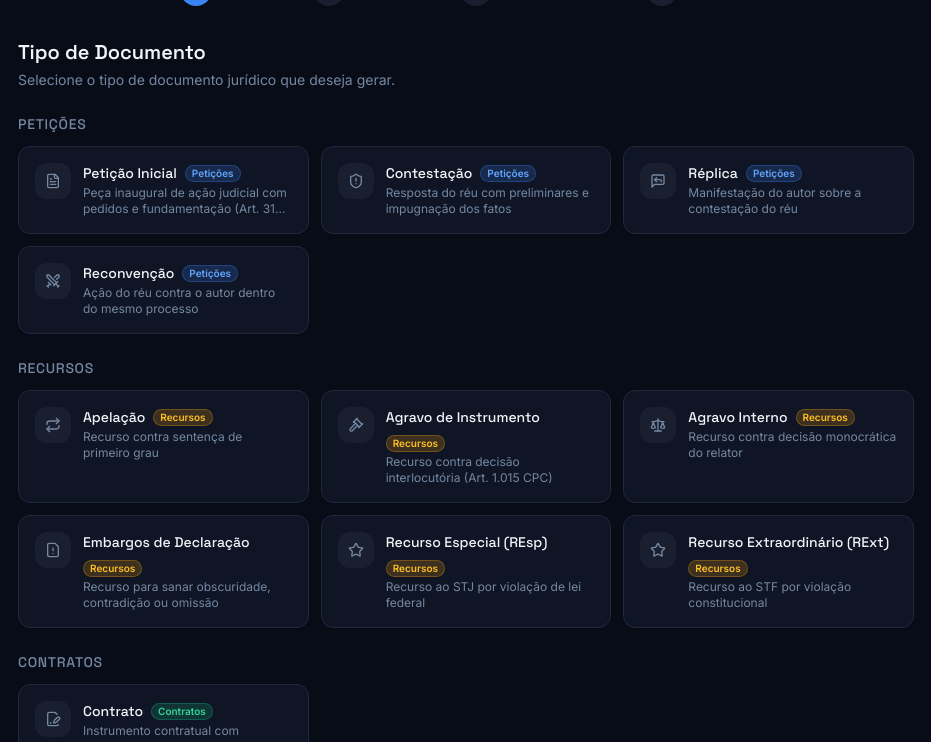
DocumentWizard › goes back to step 1 when clicking back on step 2
Click the heading "Petição Inicial" at (130,173), box [83,163,177,183]
(page scrolled)
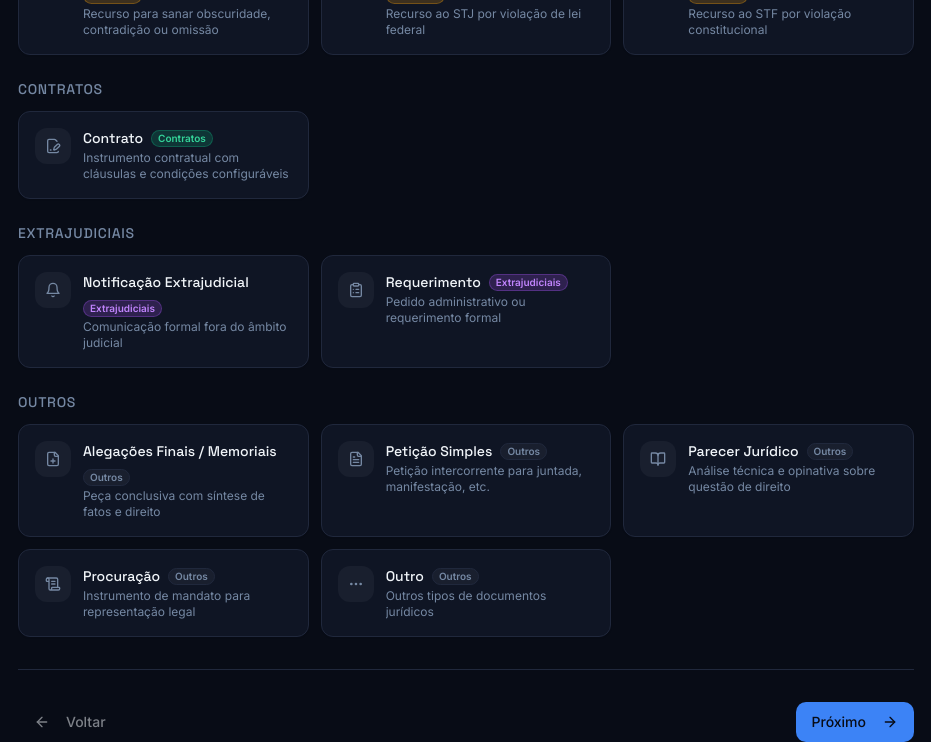
Click the button "Próximo" at (855,722), box [796,702,914,741]
(page scrolled)
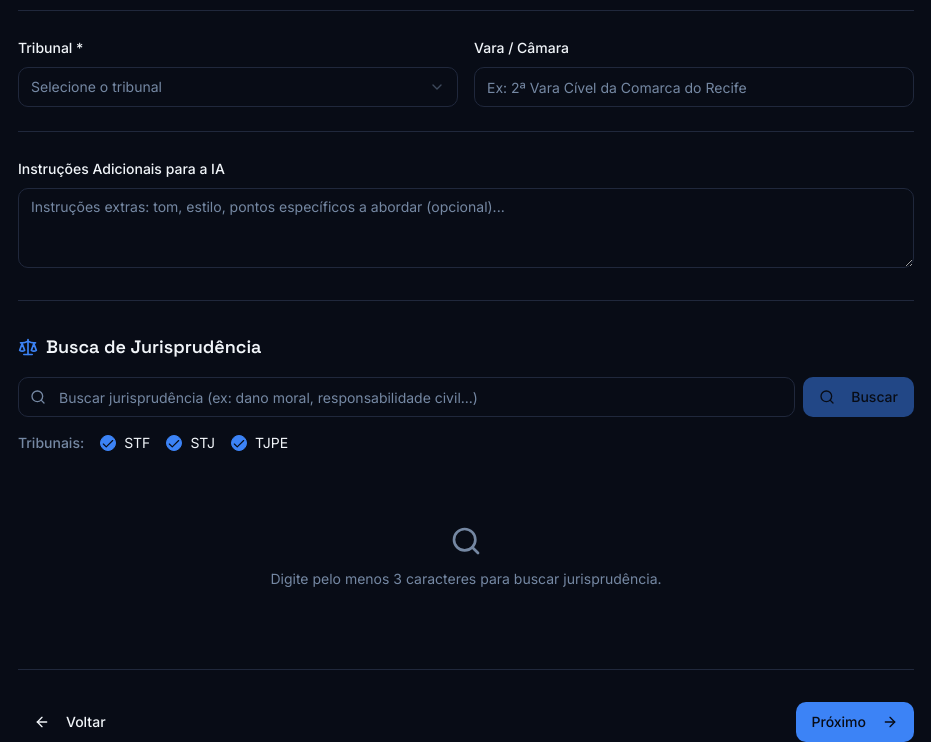
Click the button "Voltar" at (70,722), box [18,702,122,741]
(page scrolled)
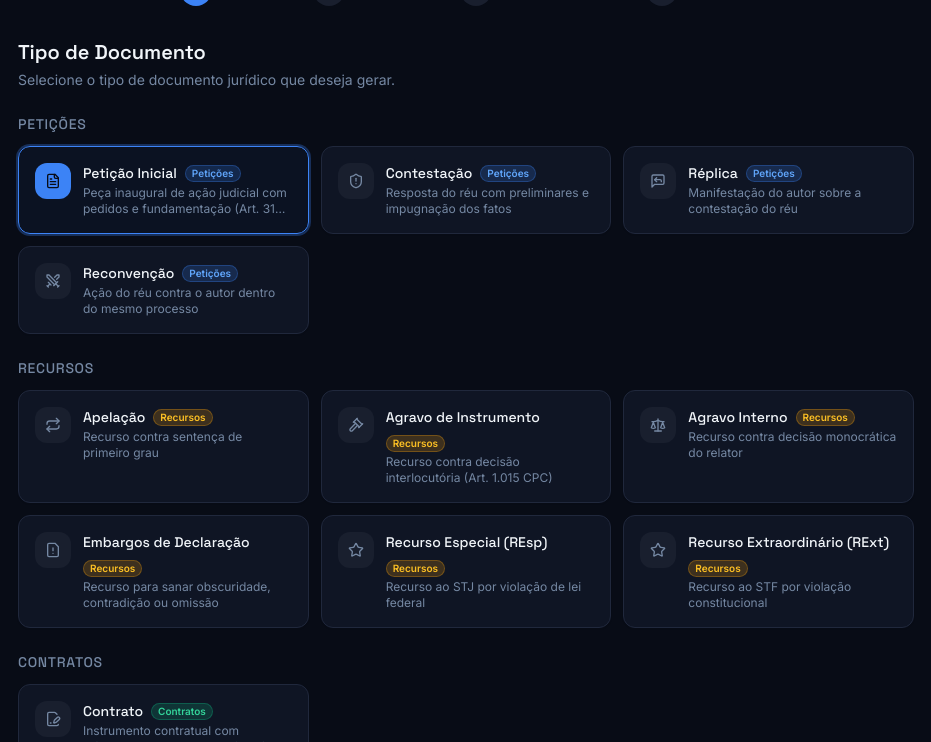
Now the heading "Tipo de Documento" is shown, box [18,39,206,65]
